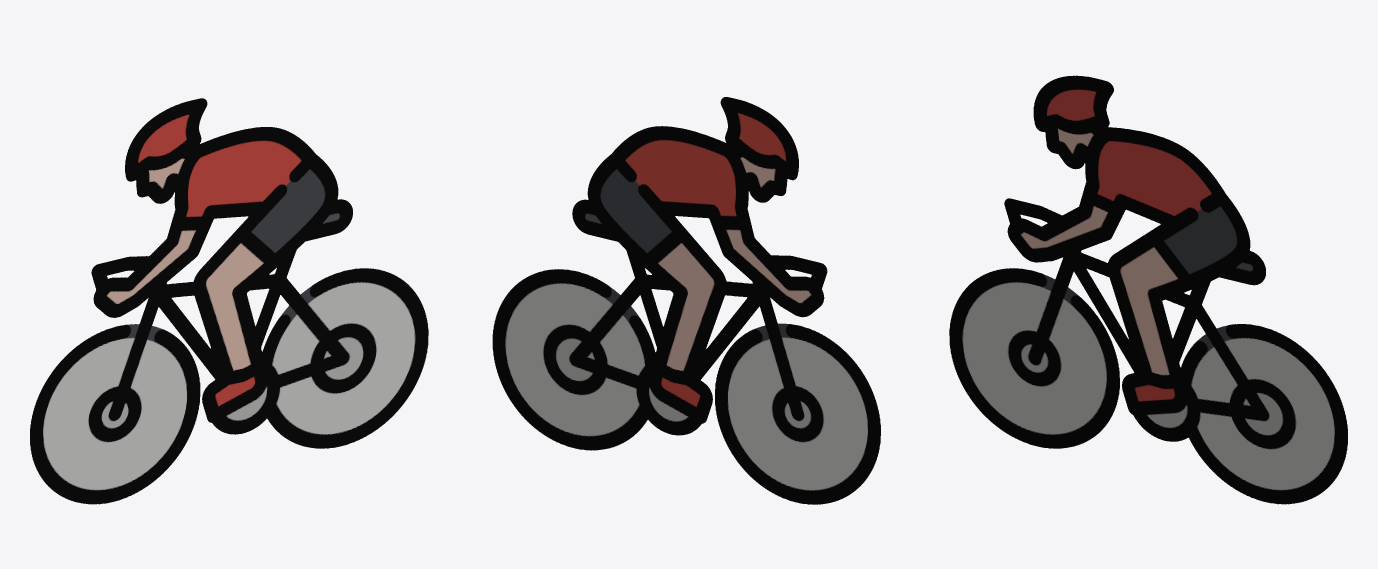
Rendered from cycling.fbx.
3 views of the same model, side by side, from view 1: azimuth 30°, elevation 25°; view 2: azimuth 150°, elevation 25°; view 3: azimuth 330°, elevation 25° (orthographic). The views are drawn at different scales.
Visible parts, largest first — view 1: cycling; view 2: cycling; view 3: cycling.
Part boxes in pixels (left/top/right/bottom): cycling: left=30, top=98, right=428, bottom=504; cycling: left=492, top=97, right=880, bottom=504; cycling: left=949, top=75, right=1347, bottom=504.
Bounding box in the file's own units: 2882 × 2880 × 115.
Materials: 1 (1 with a texture image).
